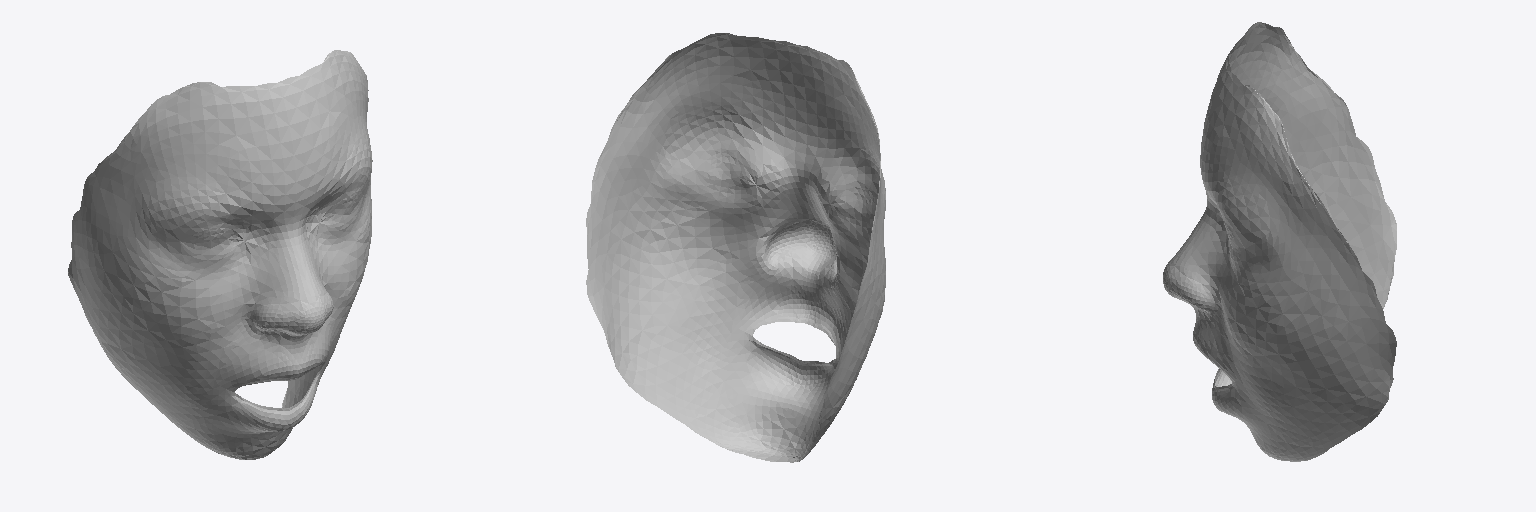
File: meshMarked.obj
3 views of the same model, side by side, from view 1: azimuth 30°, elevation 25°; view 2: azimuth 150°, elevation 25°; view 3: azimuth 270°, elevation 25° (orthographic).
Bounding box in the file's own units: 143 × 197 × 105.